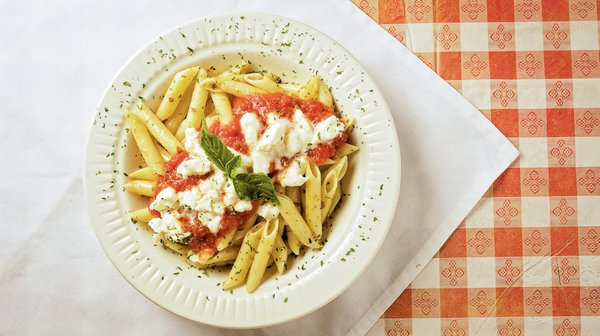curry: (1, 2, 548, 331)
